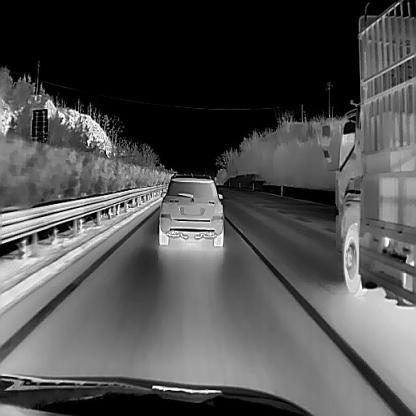car: (158, 171, 223, 246)
truck: (320, 0, 416, 309)
